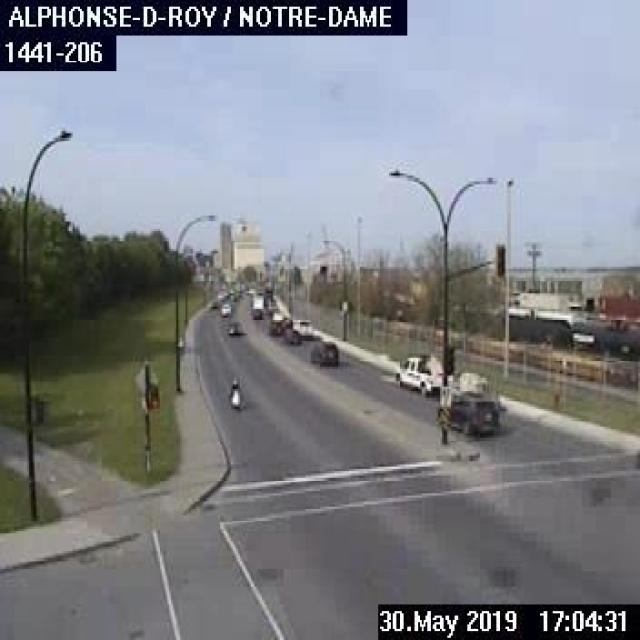vehicle: (432, 370, 500, 433), (391, 354, 440, 396), (309, 336, 338, 364), (245, 286, 268, 318), (267, 310, 287, 339), (225, 375, 242, 409), (282, 323, 302, 348), (292, 315, 312, 336), (225, 316, 242, 336), (218, 300, 230, 315)
